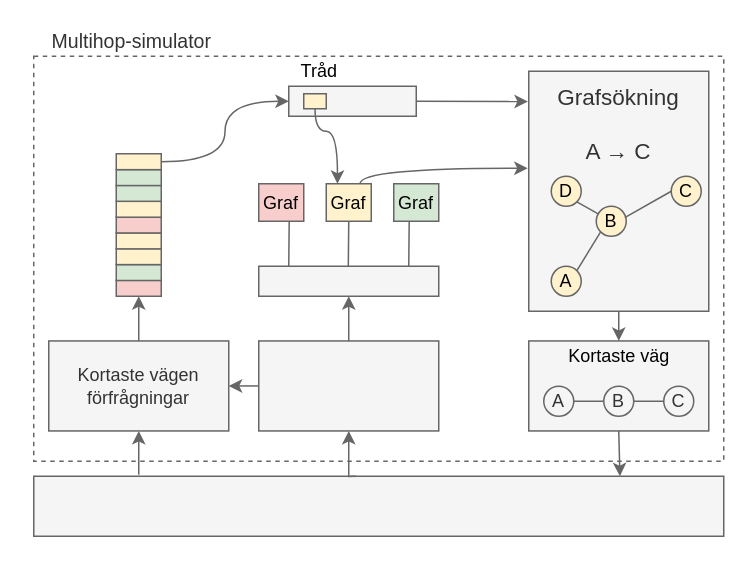
Some shapes in this 750 by 563 pixel diagram are drawn without their labels. The centre of each missing label's shape, as x and y in pixels:
"A → C" belongs at pixel 351 100.
"Beskrivning av nätverket" belongs at pixel 348 385.
"Generera grafer" belongs at pixel 348 280.
"RTI" belongs at pixel 378 505.
